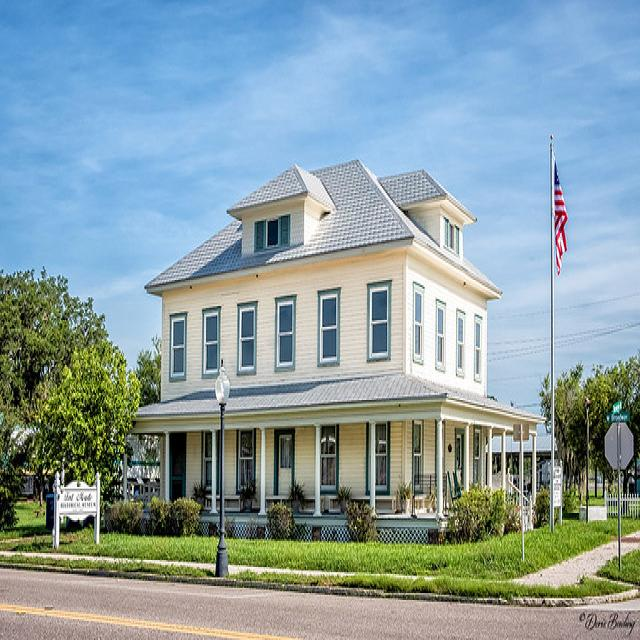Normal_building: (138, 145, 540, 563)
